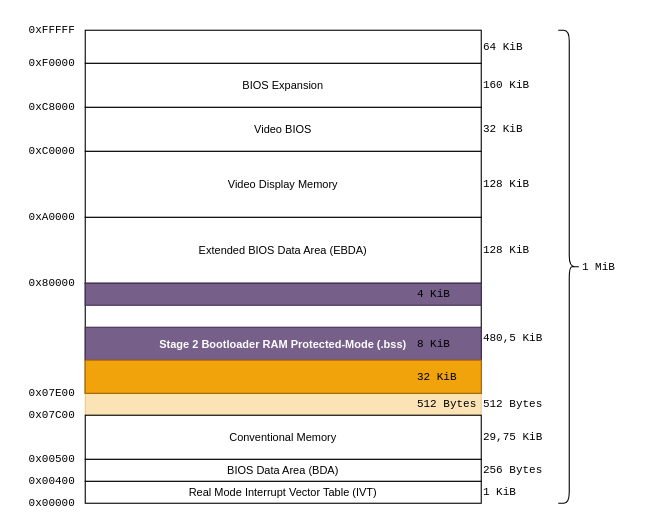
Image size: 664x532. Some labels were removed from this diagram. The box of each missing label's shape, as (x1, y1, x2, y2) in pixels:
Motherboard BIOS: (84, 29, 481, 63)
Stage 1 Bootloader: (84, 392, 481, 415)
Stage 2 Bootloader: (84, 359, 481, 393)
Stage 2 Bootloader Stack (.stack): (84, 282, 481, 305)
